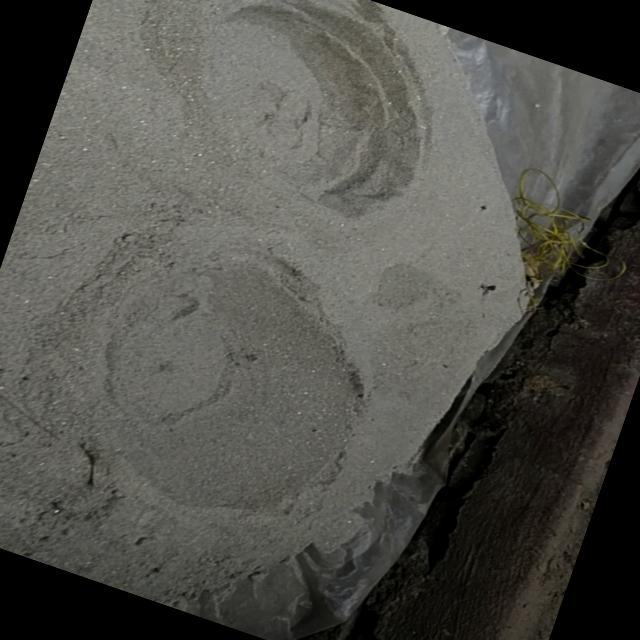C20: (97, 269, 360, 529), (206, 0, 419, 214)
